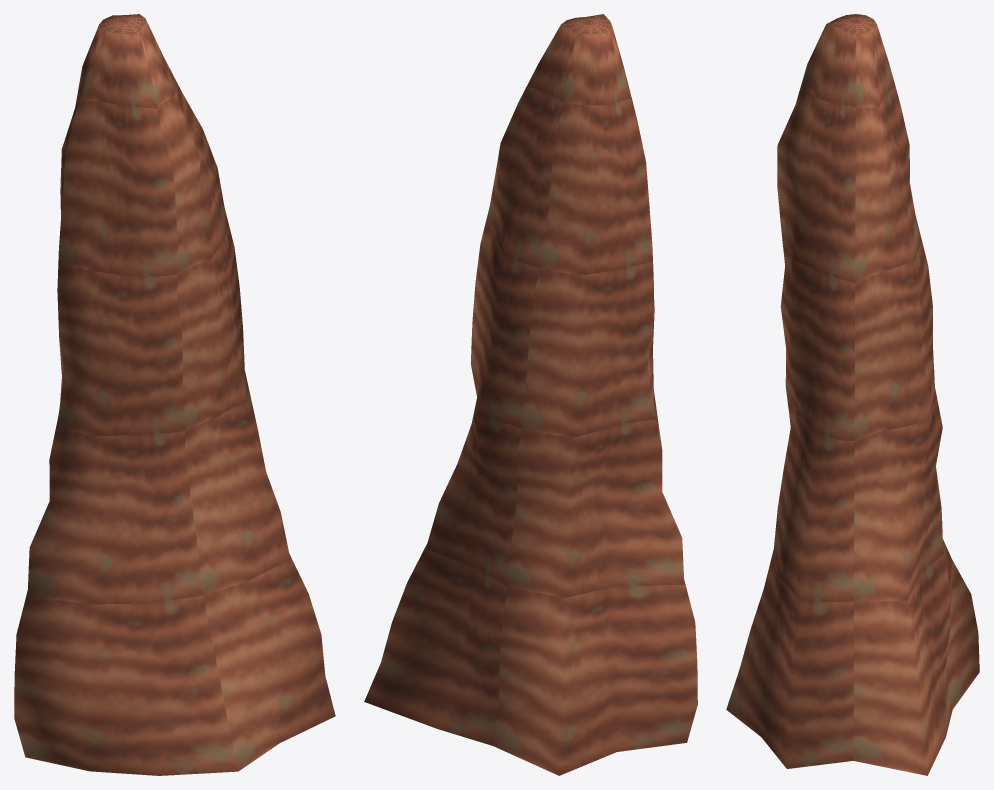
File: Rock_Spire_1_LOD1.gltf
3 views of the same model, side by side, from view 1: azimuth 30°, elevation 25°; view 2: azimuth 150°, elevation 25°; view 3: azimuth 270°, elevation 25° (orthographic). The views are drawn at different scales.
Visible parts, largest first — view 1: Rock_Spire_1_LOD1; view 2: Rock_Spire_1_LOD1; view 3: Rock_Spire_1_LOD1.
Part boxes in pixels (x1,y1,x2,y2): Rock_Spire_1_LOD1: (14,14,335,775); Rock_Spire_1_LOD1: (364,14,697,775); Rock_Spire_1_LOD1: (726,14,979,775).
Size of the model in its own units: 11.82 by 26.71 by 9.19.
Materials: 1 (1 with a texture image).
